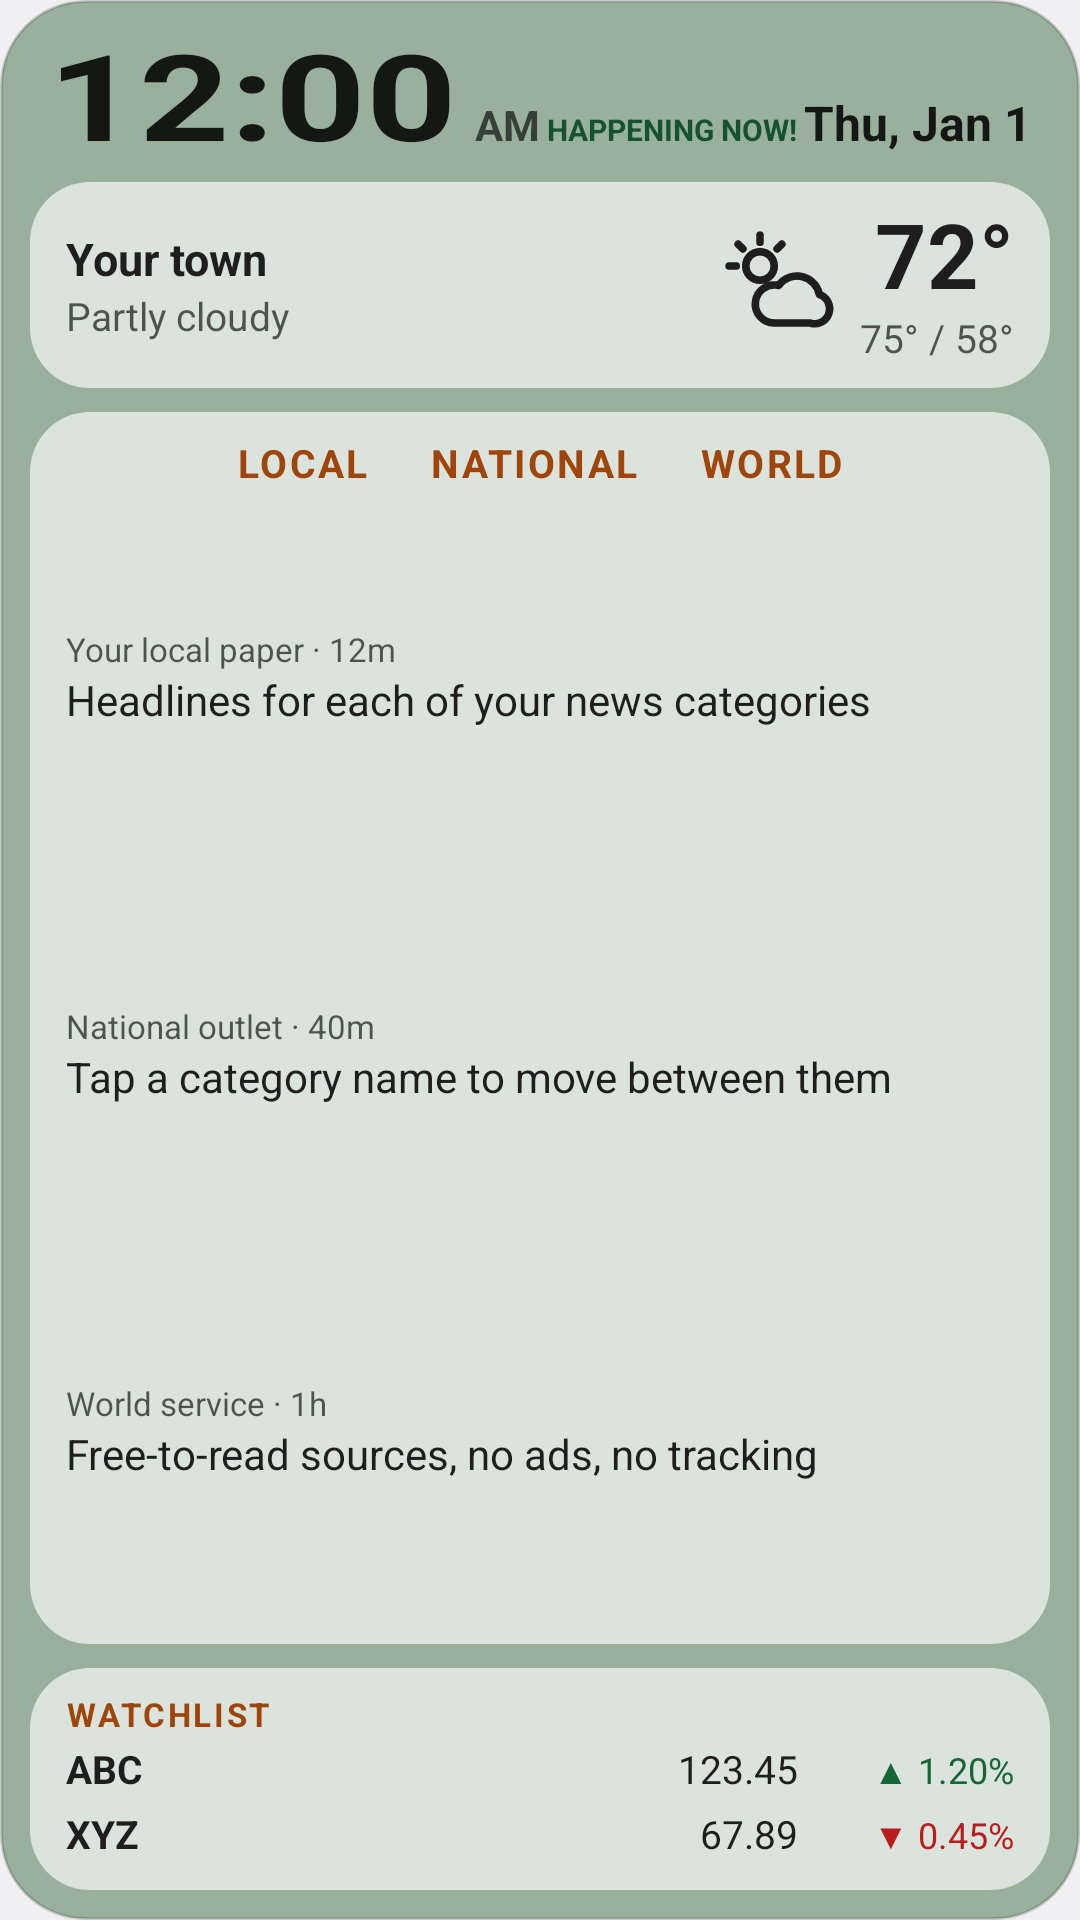

Icons on this 1080w x 1920h Android screen, each with the point to tap as (x,y):
partly: (779,279)
